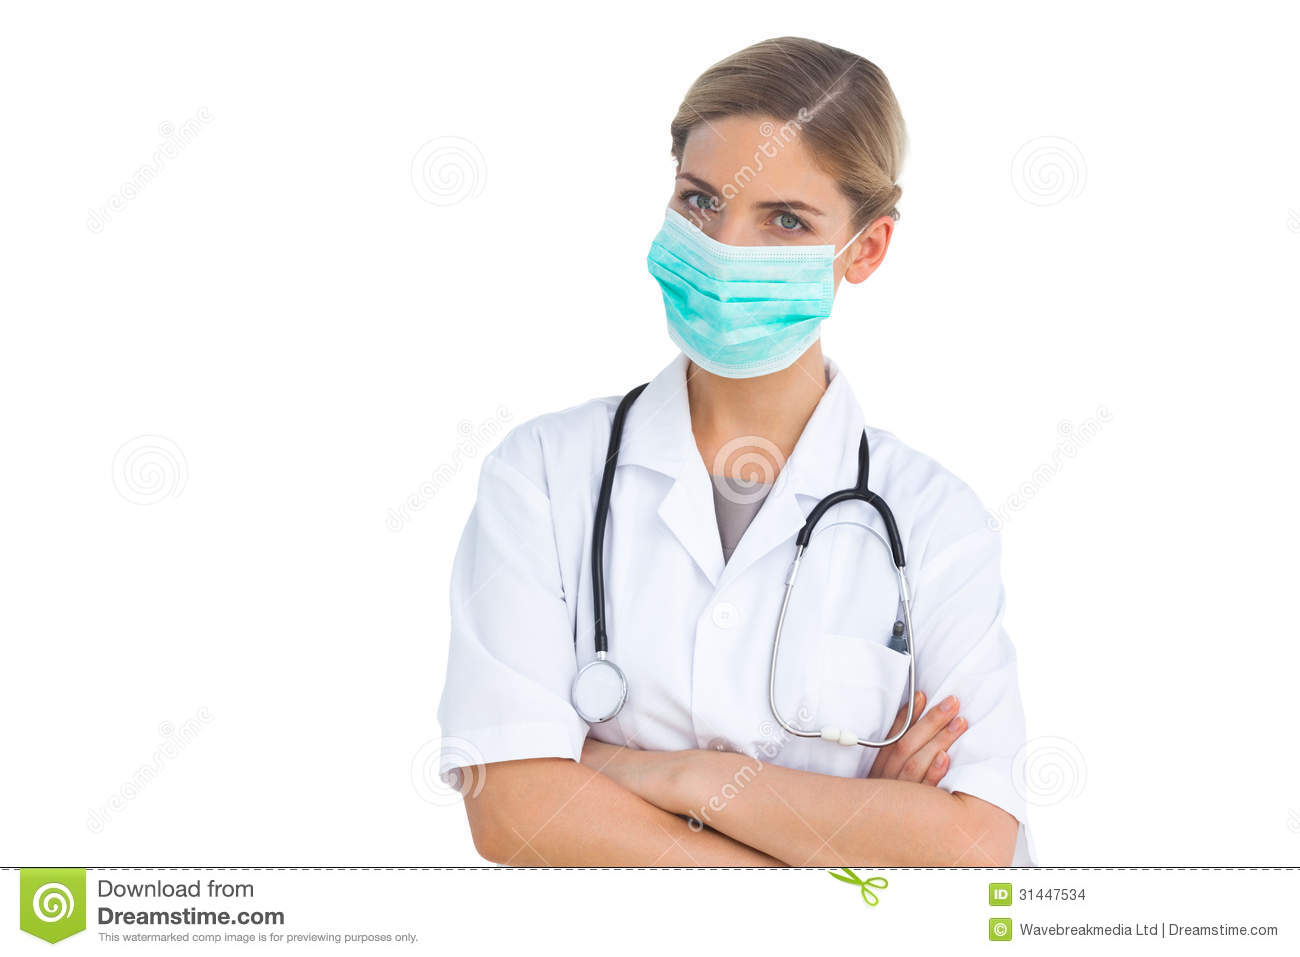mask: (632, 213, 858, 374)
